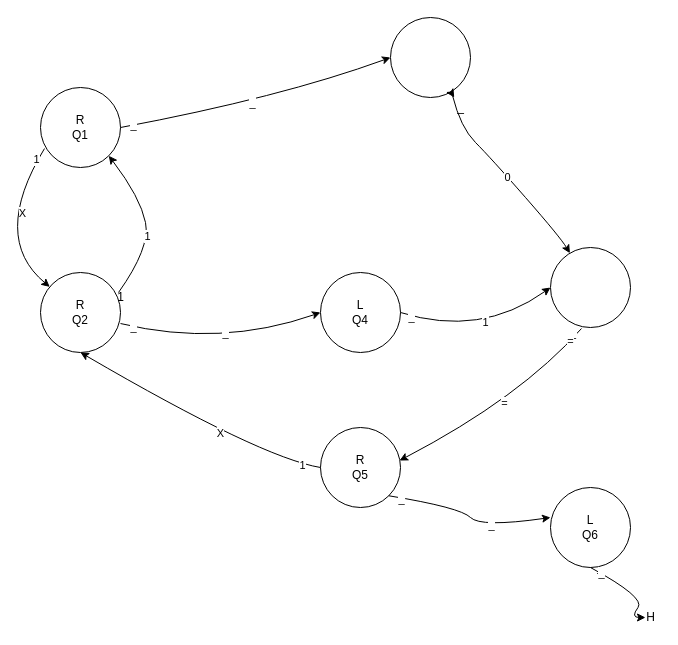
Image size: 678x645. Some labels were removed from this diagram. The centre of each missing label's shape, as x and y in pixels:
L Q3: [430,57]
R Q7: [590,287]
